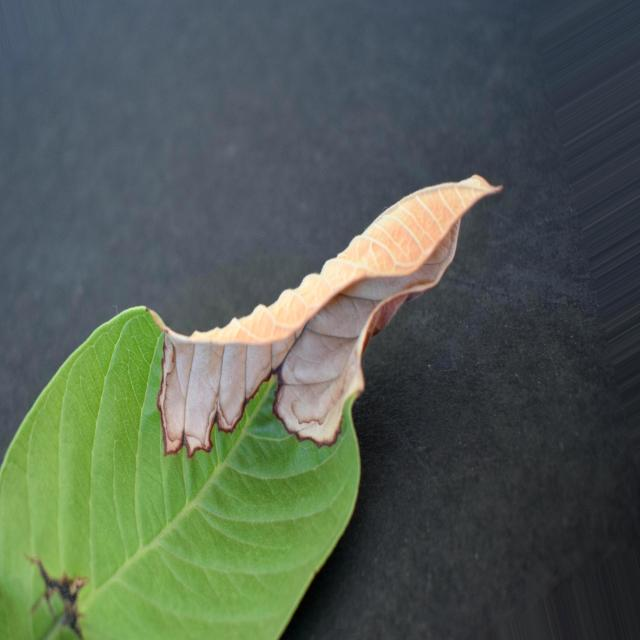Mummification: (0, 176, 500, 639)
